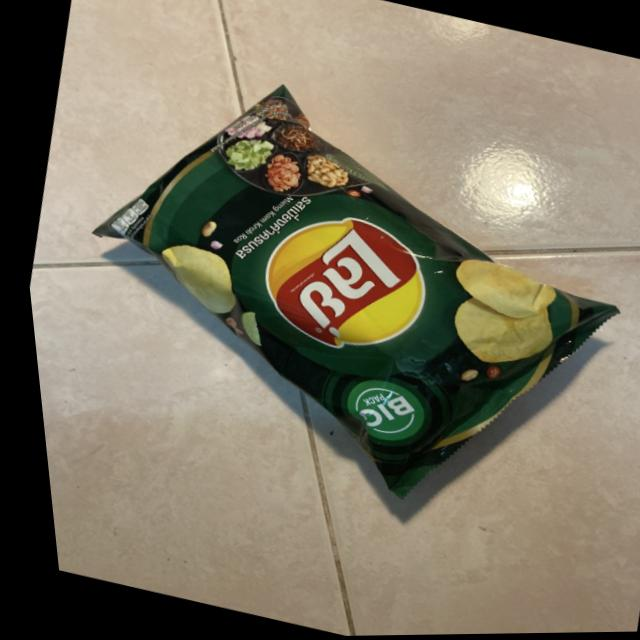Laygreen: (2, 14, 640, 586)
